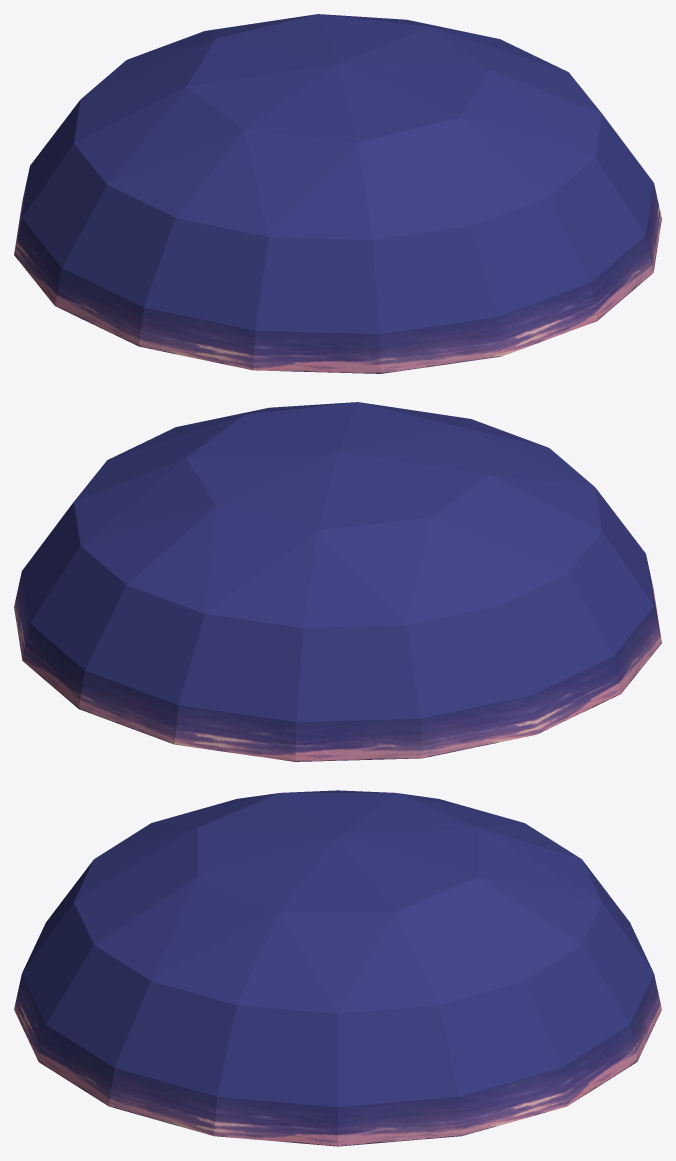
3 renders of one model, top to bottom at view 1: azimuth 30°, elevation 25°; view 2: azimuth 150°, elevation 25°; view 3: azimuth 270°, elevation 25°, orthographic.
Parts seen in each view (by area): view 1: s03_dn_06_1, s03_dn_06_0; view 2: s03_dn_06_1, s03_dn_06_0; view 3: s03_dn_06_1, s03_dn_06_0.
Boxes of the visible parts, left/top/right/bottom form: s03_dn_06_1: left=22, top=14, right=653, bottom=334; s03_dn_06_0: left=14, top=168, right=661, bottom=373; s03_dn_06_1: left=22, top=402, right=653, bottom=722; s03_dn_06_0: left=14, top=556, right=661, bottom=761; s03_dn_06_1: left=22, top=790, right=653, bottom=1106; s03_dn_06_0: left=14, top=974, right=661, bottom=1146.
Size of the model in its own units: 100000 by 29220 by 100000.
